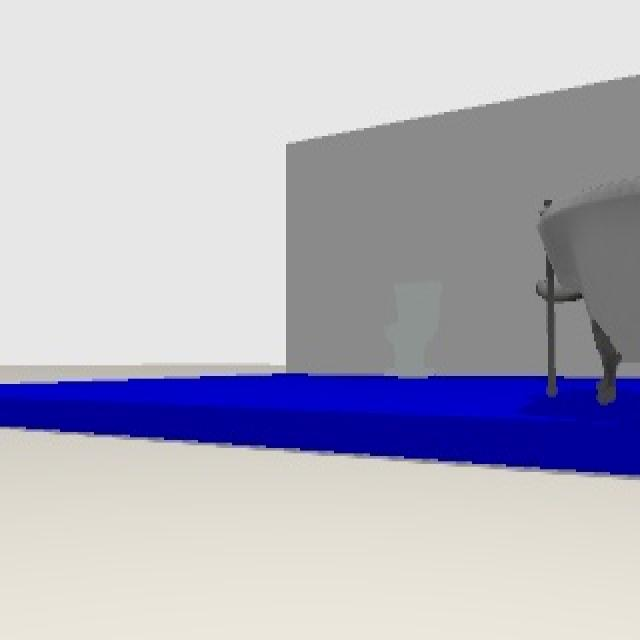bathtub: (536, 184, 638, 405)
